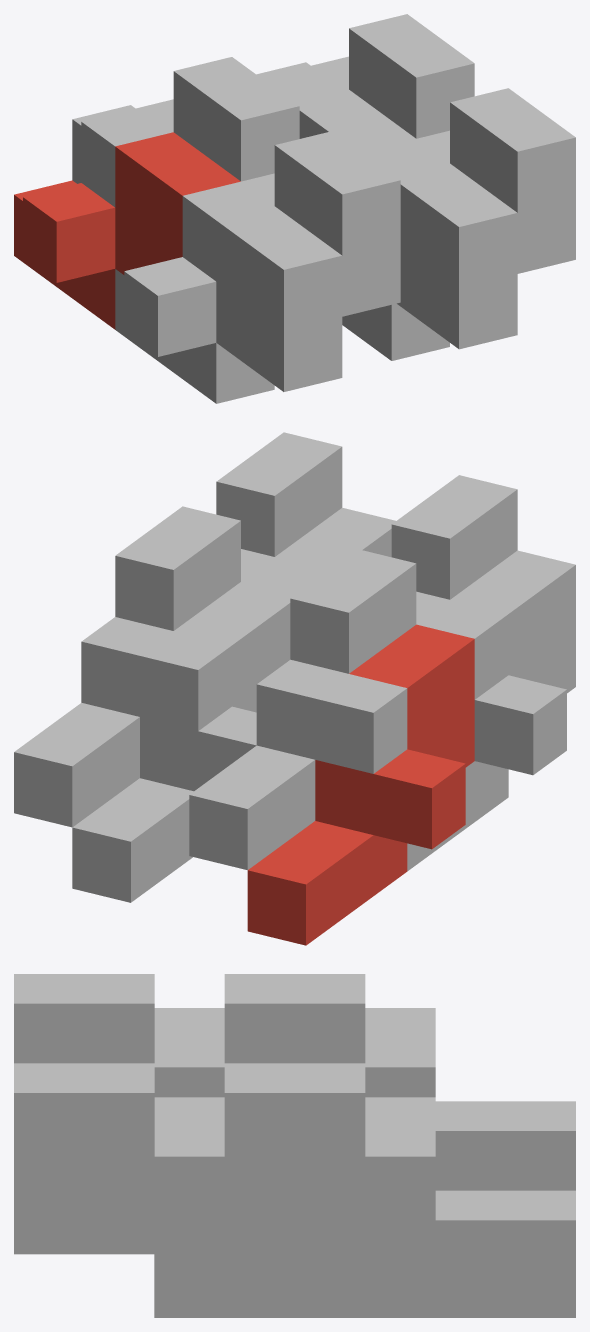
File: tiling.obj
The picture shows the model from 3 angles, top to bottom: view 1: azimuth 30°, elevation 25°; view 2: azimuth 150°, elevation 25°; view 3: azimuth 270°, elevation 25°; orthographic projection. The views are drawn at different scales.
Visible parts, largest first — view 1: copy_1_domain_2, copy_1_domain_6, copy_1_domain_1, copy_1_domain_4, copy_1_domain_8, copy_1_domain_3, copy_1_domain_7, copy_1_domain_5; view 2: copy_1_domain_3, copy_1_domain_7, copy_1_domain_1, copy_1_domain_5, copy_1_domain_2, copy_1_domain_4, copy_1_domain_8, copy_1_domain_6; view 3: copy_1_domain_7, copy_1_domain_8, copy_1_domain_3, copy_1_domain_4, copy_1_domain_6, copy_1_domain_5.
Boxes of the visible parts, <box> form: copy_1_domain_2: <box>115,206,342,403</box>; copy_1_domain_6: <box>342,163,517,360</box>; copy_1_domain_1: <box>14,132,240,329</box>; copy_1_domain_4: <box>182,131,400,316</box>; copy_1_domain_8: <box>362,88,575,273</box>; copy_1_domain_3: <box>72,57,299,207</box>; copy_1_domain_7: <box>256,14,474,138</box>; copy_1_domain_5: <box>295,89,415,151</box>; copy_1_domain_3: <box>189,549,416,870</box>; copy_1_domain_7: <box>14,506,240,827</box>; copy_1_domain_1: <box>247,624,474,945</box>; copy_1_domain_5: <box>72,582,294,902</box>; copy_1_domain_2: <box>407,550,575,871</box>; copy_1_domain_4: <box>391,475,517,699</box>; copy_1_domain_8: <box>216,432,342,594</box>; copy_1_domain_6: <box>275,507,395,570</box>; copy_1_domain_7: <box>224,1063,575,1283</box>; copy_1_domain_8: <box>14,1063,365,1283</box>; copy_1_domain_3: <box>224,974,575,1190</box>; copy_1_domain_4: <box>14,974,224,1097</box>; copy_1_domain_6: <box>14,1220,365,1317</box>; copy_1_domain_5: <box>365,1284,575,1317</box>.
Size of the model in its own units: 6 by 4 by 8.
